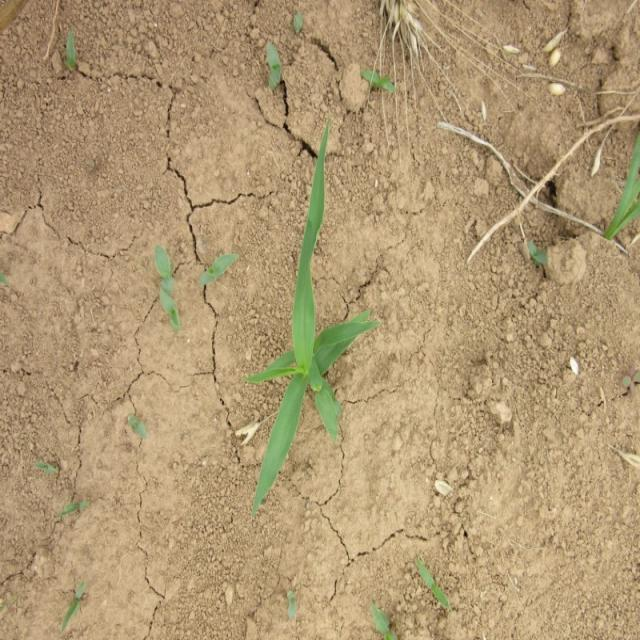bg: (250, 130, 375, 506)
